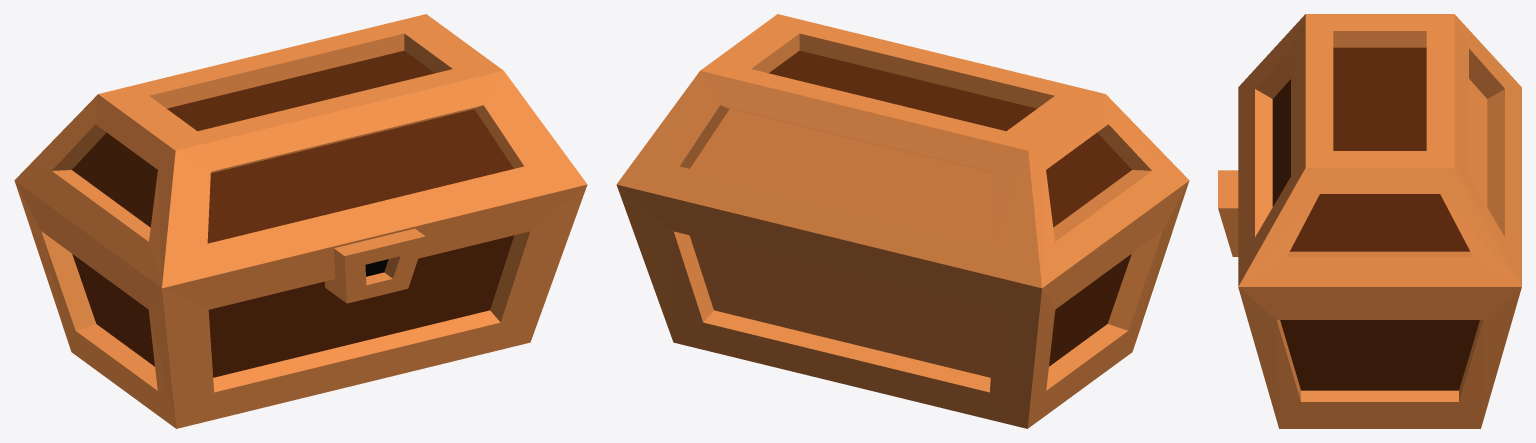
The model's file is Treasure Chest 01.FBX.
3 renders of one model, left to right at view 1: azimuth 30°, elevation 25°; view 2: azimuth 150°, elevation 25°; view 3: azimuth 270°, elevation 25°, orthographic. The views are drawn at different scales.
Parts seen in each view (by area): view 1: Treasure Chest 01 Cover, Treasure Chest 01 Base; view 2: Treasure Chest 01 Cover, Treasure Chest 01 Base; view 3: Treasure Chest 01 Cover, Treasure Chest 01 Base.
Boxes of the visible parts, x1,y1,x2,y2 form: Treasure Chest 01 Cover: (14,14,587,288); Treasure Chest 01 Base: (14,180,587,428); Treasure Chest 01 Cover: (616,14,1189,288); Treasure Chest 01 Base: (616,180,1189,428); Treasure Chest 01 Cover: (1238,14,1521,286); Treasure Chest 01 Base: (1218,170,1521,428).
Bounding box in the file's own units: 78.31 × 46.58 × 50.33.
